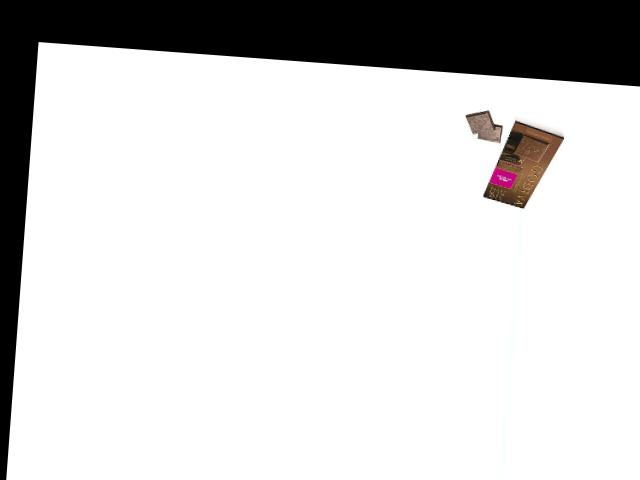chocolate: (480, 117, 565, 212)
